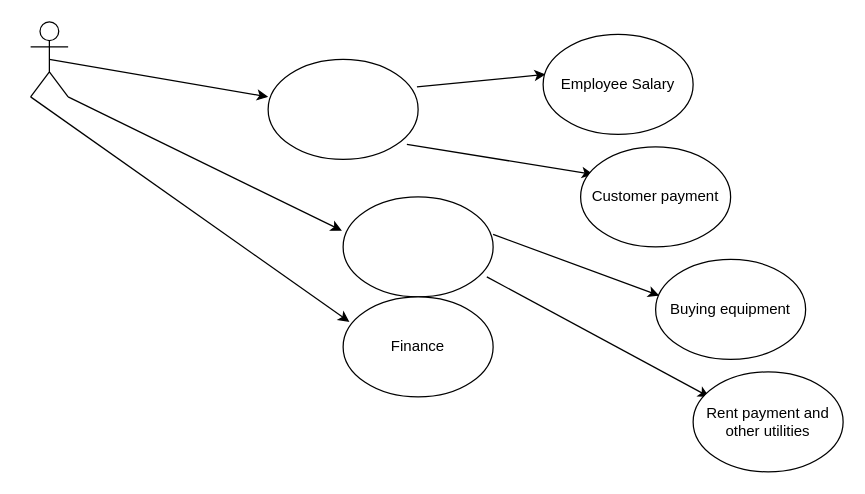
Some shapes in this 865 by 494 pixel diagram are drawn without their labels. The shapes that lost their labels are listed below. From the top down, each one's box as (x1, y1, x2, y2) in pixels, then its label:
(29, 21, 68, 97): Actor
(267, 58, 418, 159): Check monthly payments
(342, 196, 493, 297): Manage kindergarten expenses
